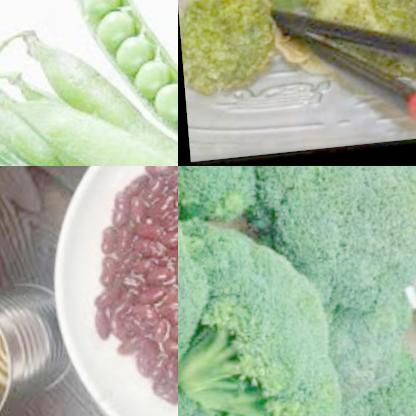beans: (0, 0, 178, 166), (63, 166, 178, 416), (25, 0, 178, 166)
broccoli: (178, 222, 349, 416), (231, 166, 416, 334), (271, 288, 416, 416), (217, 0, 416, 75), (178, 0, 284, 98)
